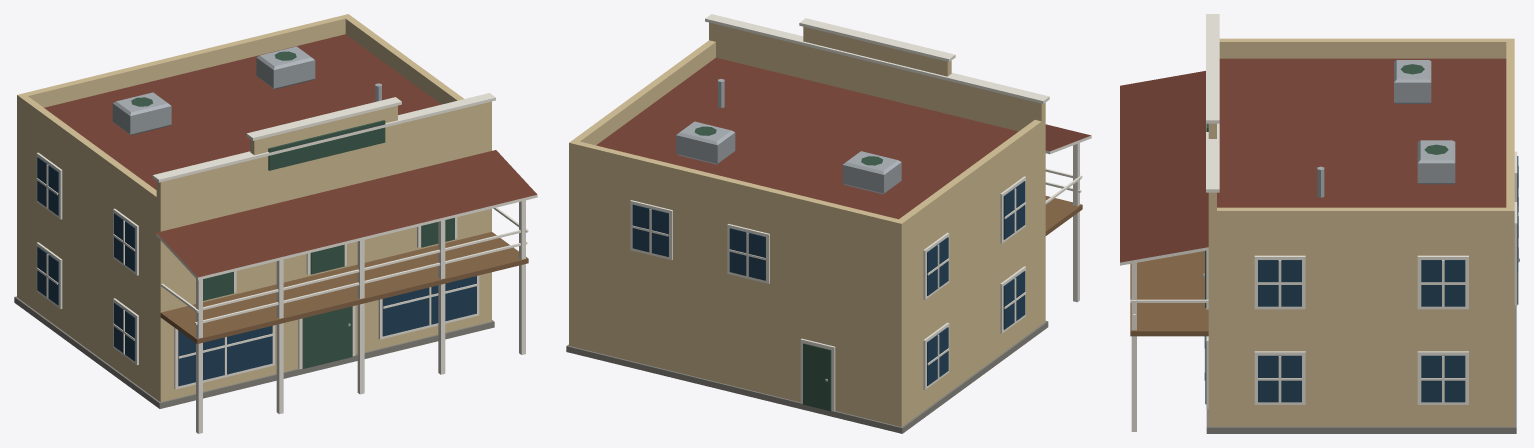
Rendered from shop.glb.
3 renders of one model, left to right at view 1: azimuth 30°, elevation 25°; view 2: azimuth 150°, elevation 25°; view 3: azimuth 270°, elevation 25°, orthographic. The views are drawn at different scales.
Parts seen in each view (by area): view 1: shop; view 2: shop; view 3: shop.
Boxes of the visible parts, x1,y1,x2,y2 form: shop: (14, 14, 537, 433); shop: (566, 14, 1091, 433); shop: (1120, 14, 1519, 433).
Bounding box in the file's own units: 12.3 × 8.6 × 11.75.
